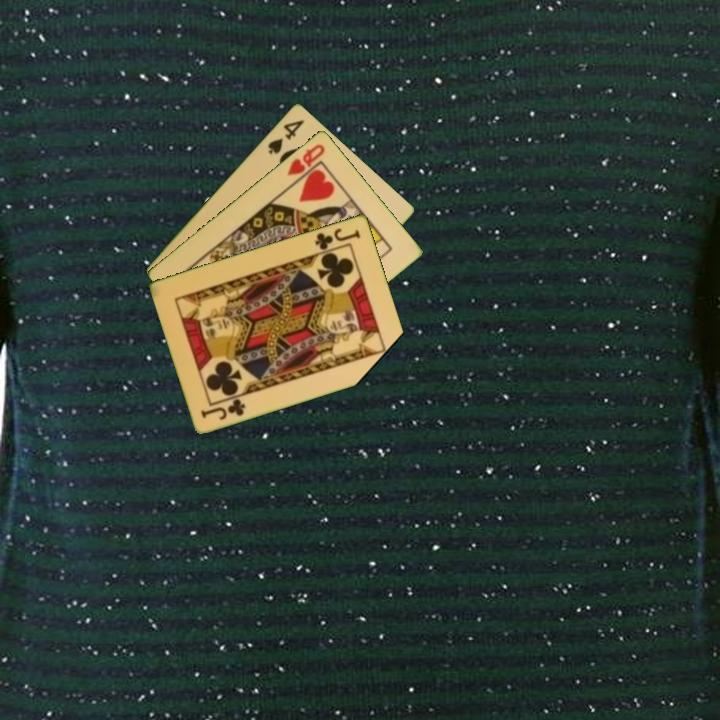4s: (264, 116, 308, 157)
Jc: (311, 224, 363, 253), (197, 395, 249, 423)
Qh: (283, 140, 328, 178)
